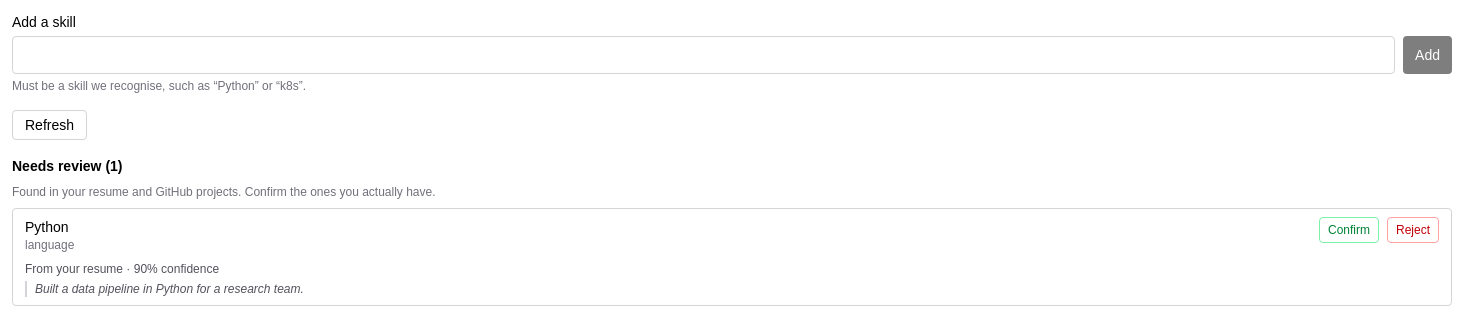
Test: skills section › rejects a suggested skill and keeps it visible for restoring
Expected: the text "Python" is shown, [25,217,74,237]
Click the button "Reject". click: point(1413, 230)
box: [1387,217,1439,243]
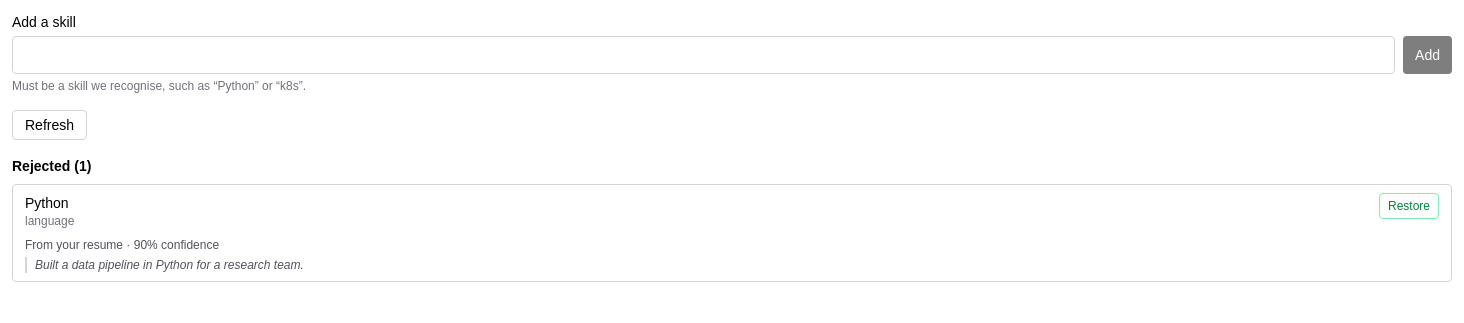
Now the heading "Rejected (1)" is shown, box [12,158,91,174]
Now the button "Restore" is shown, box [1379,193,1439,219]
